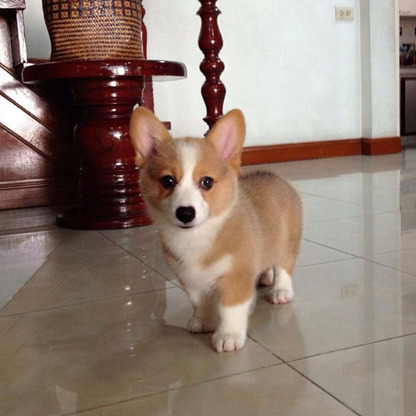Corgi: (111, 93, 324, 373)
